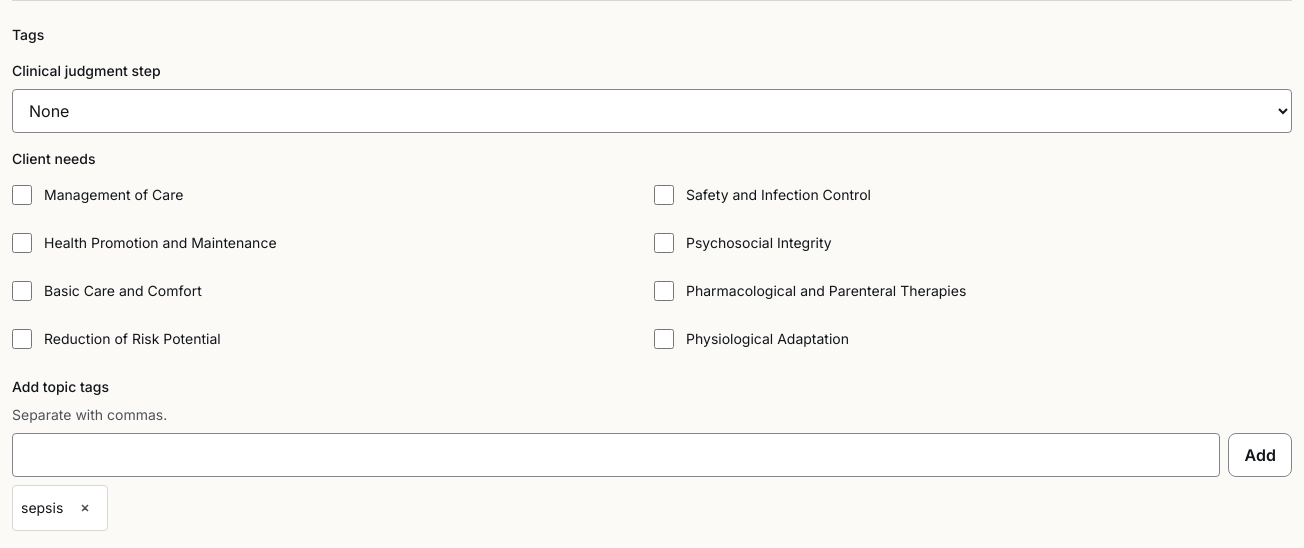
it: TagFields › adds topics typed with commas, trimmed, lower-cased and without repeats, on Enter
Type "  Renal ,SEPSIS, fluid   balance" into the field labelled "Add topic tags".
click(616, 455); type("  Renal ,SEPSIS, fluid   balance")  # box x1=12 y1=433 x2=1220 y2=477
Then press Enter
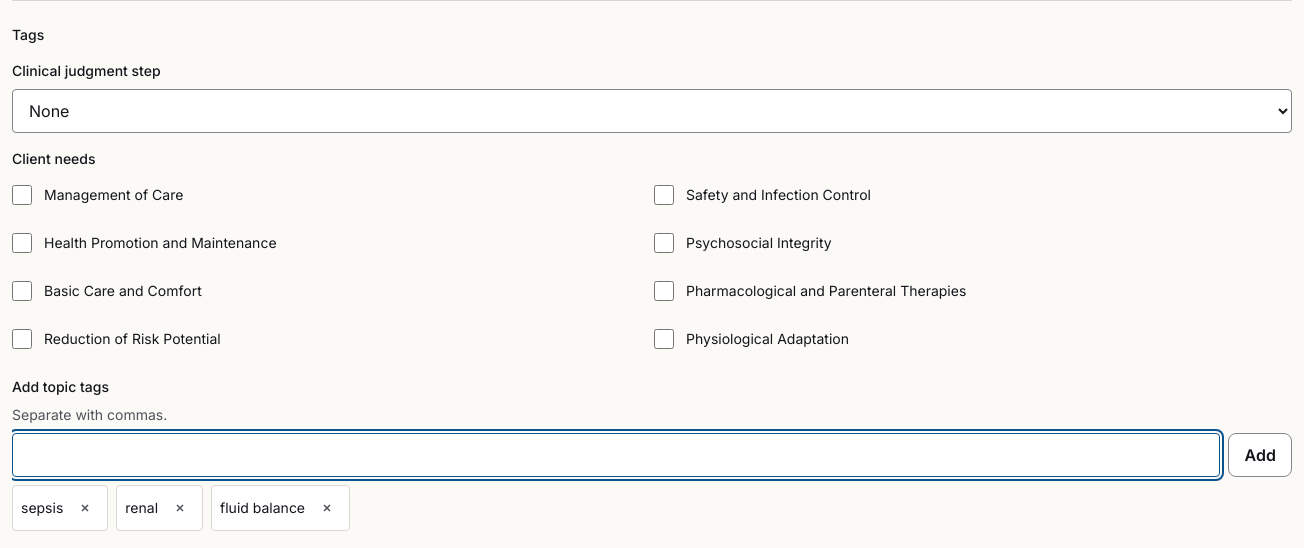
Now the list items read "sepsis", "renal", "fluid balance", in this order, box x1=12 y1=485 x2=108 y2=531; x1=116 y1=485 x2=203 y2=531; x1=211 y1=485 x2=350 y2=531
